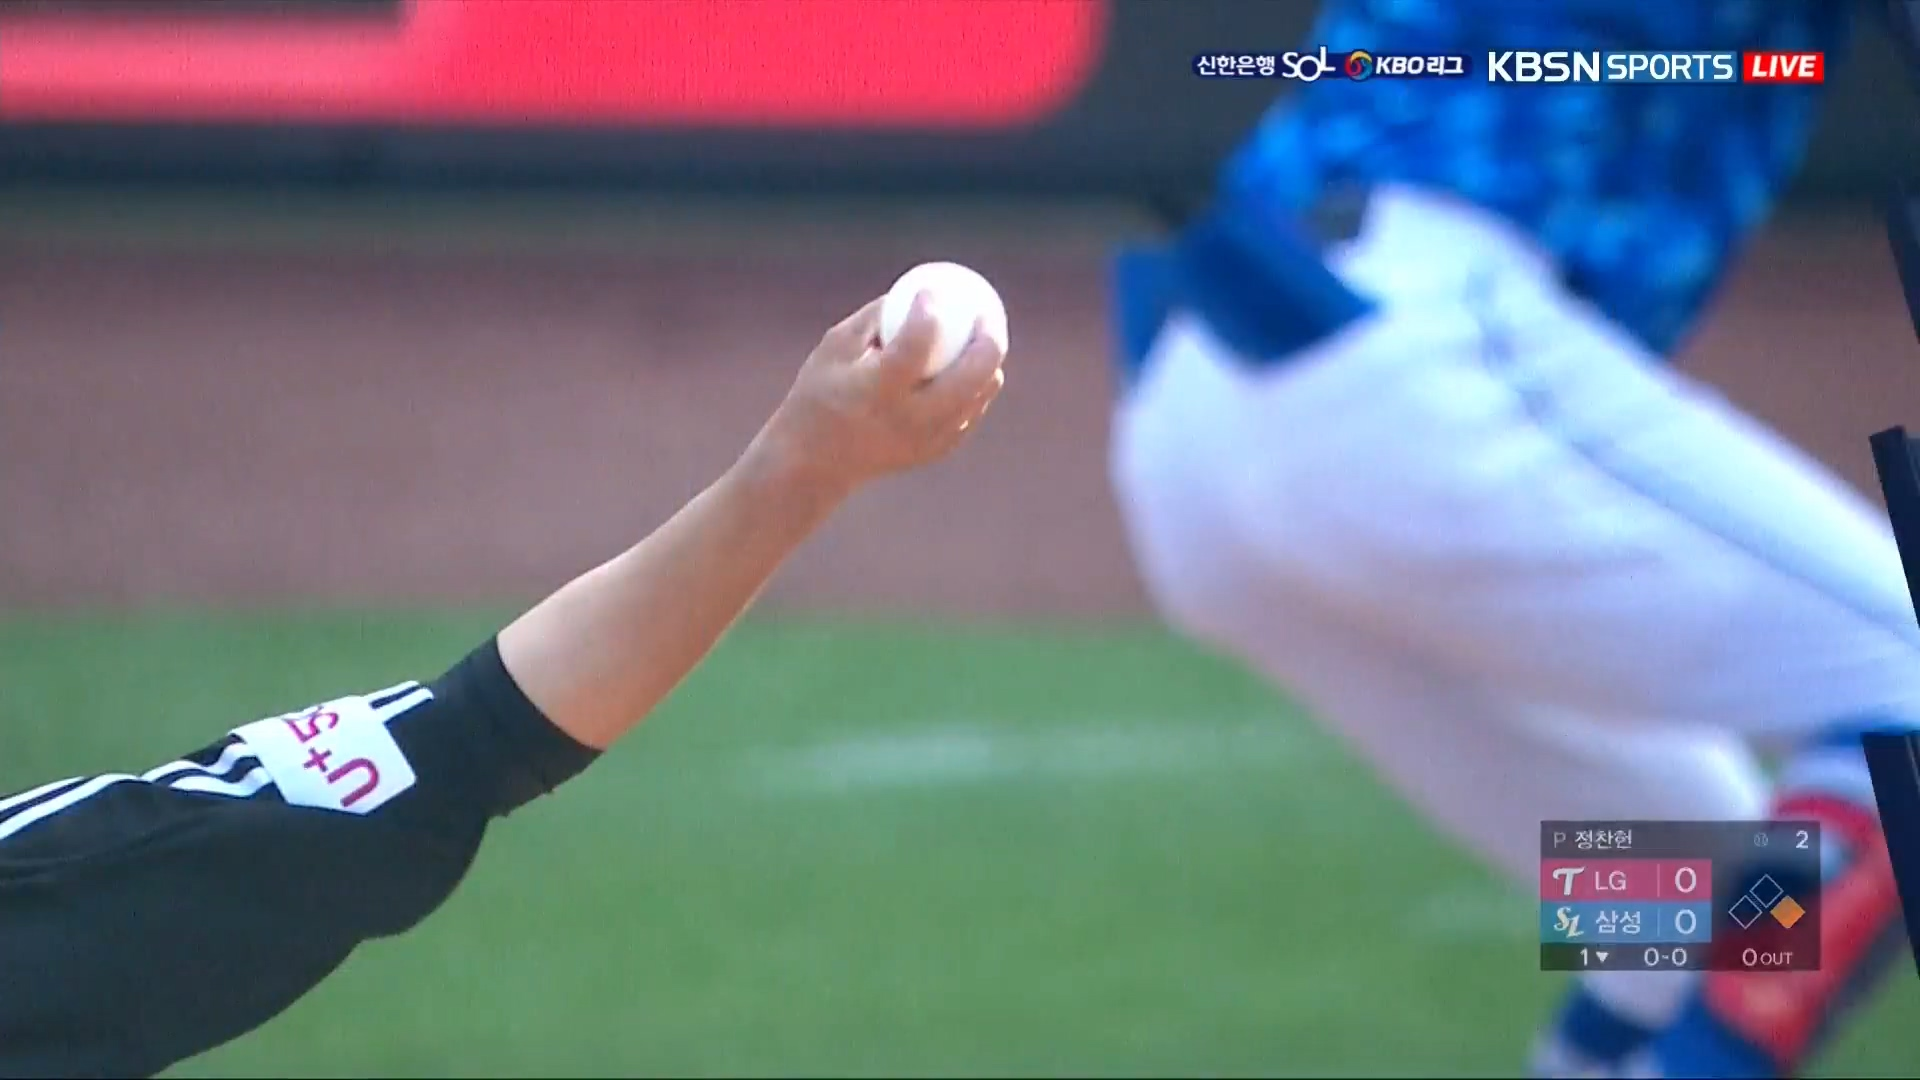zoomin_hand: (462, 251, 1019, 835)
